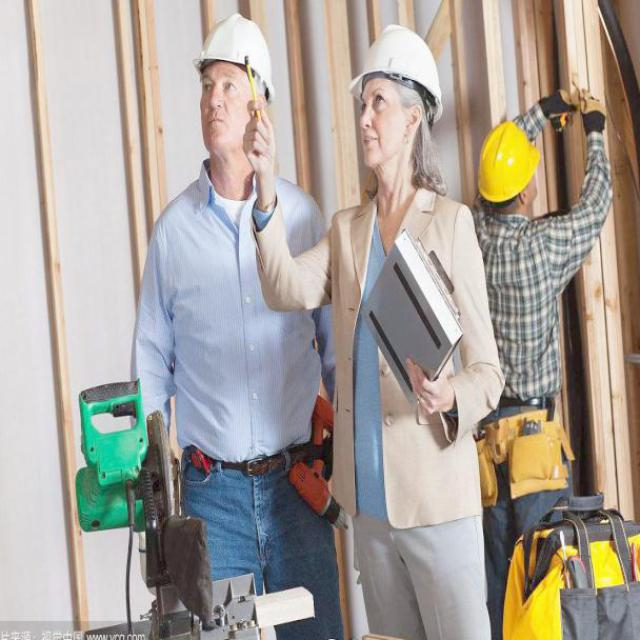helmet: (174, 0, 285, 191), (333, 29, 441, 175), (464, 122, 556, 222)
